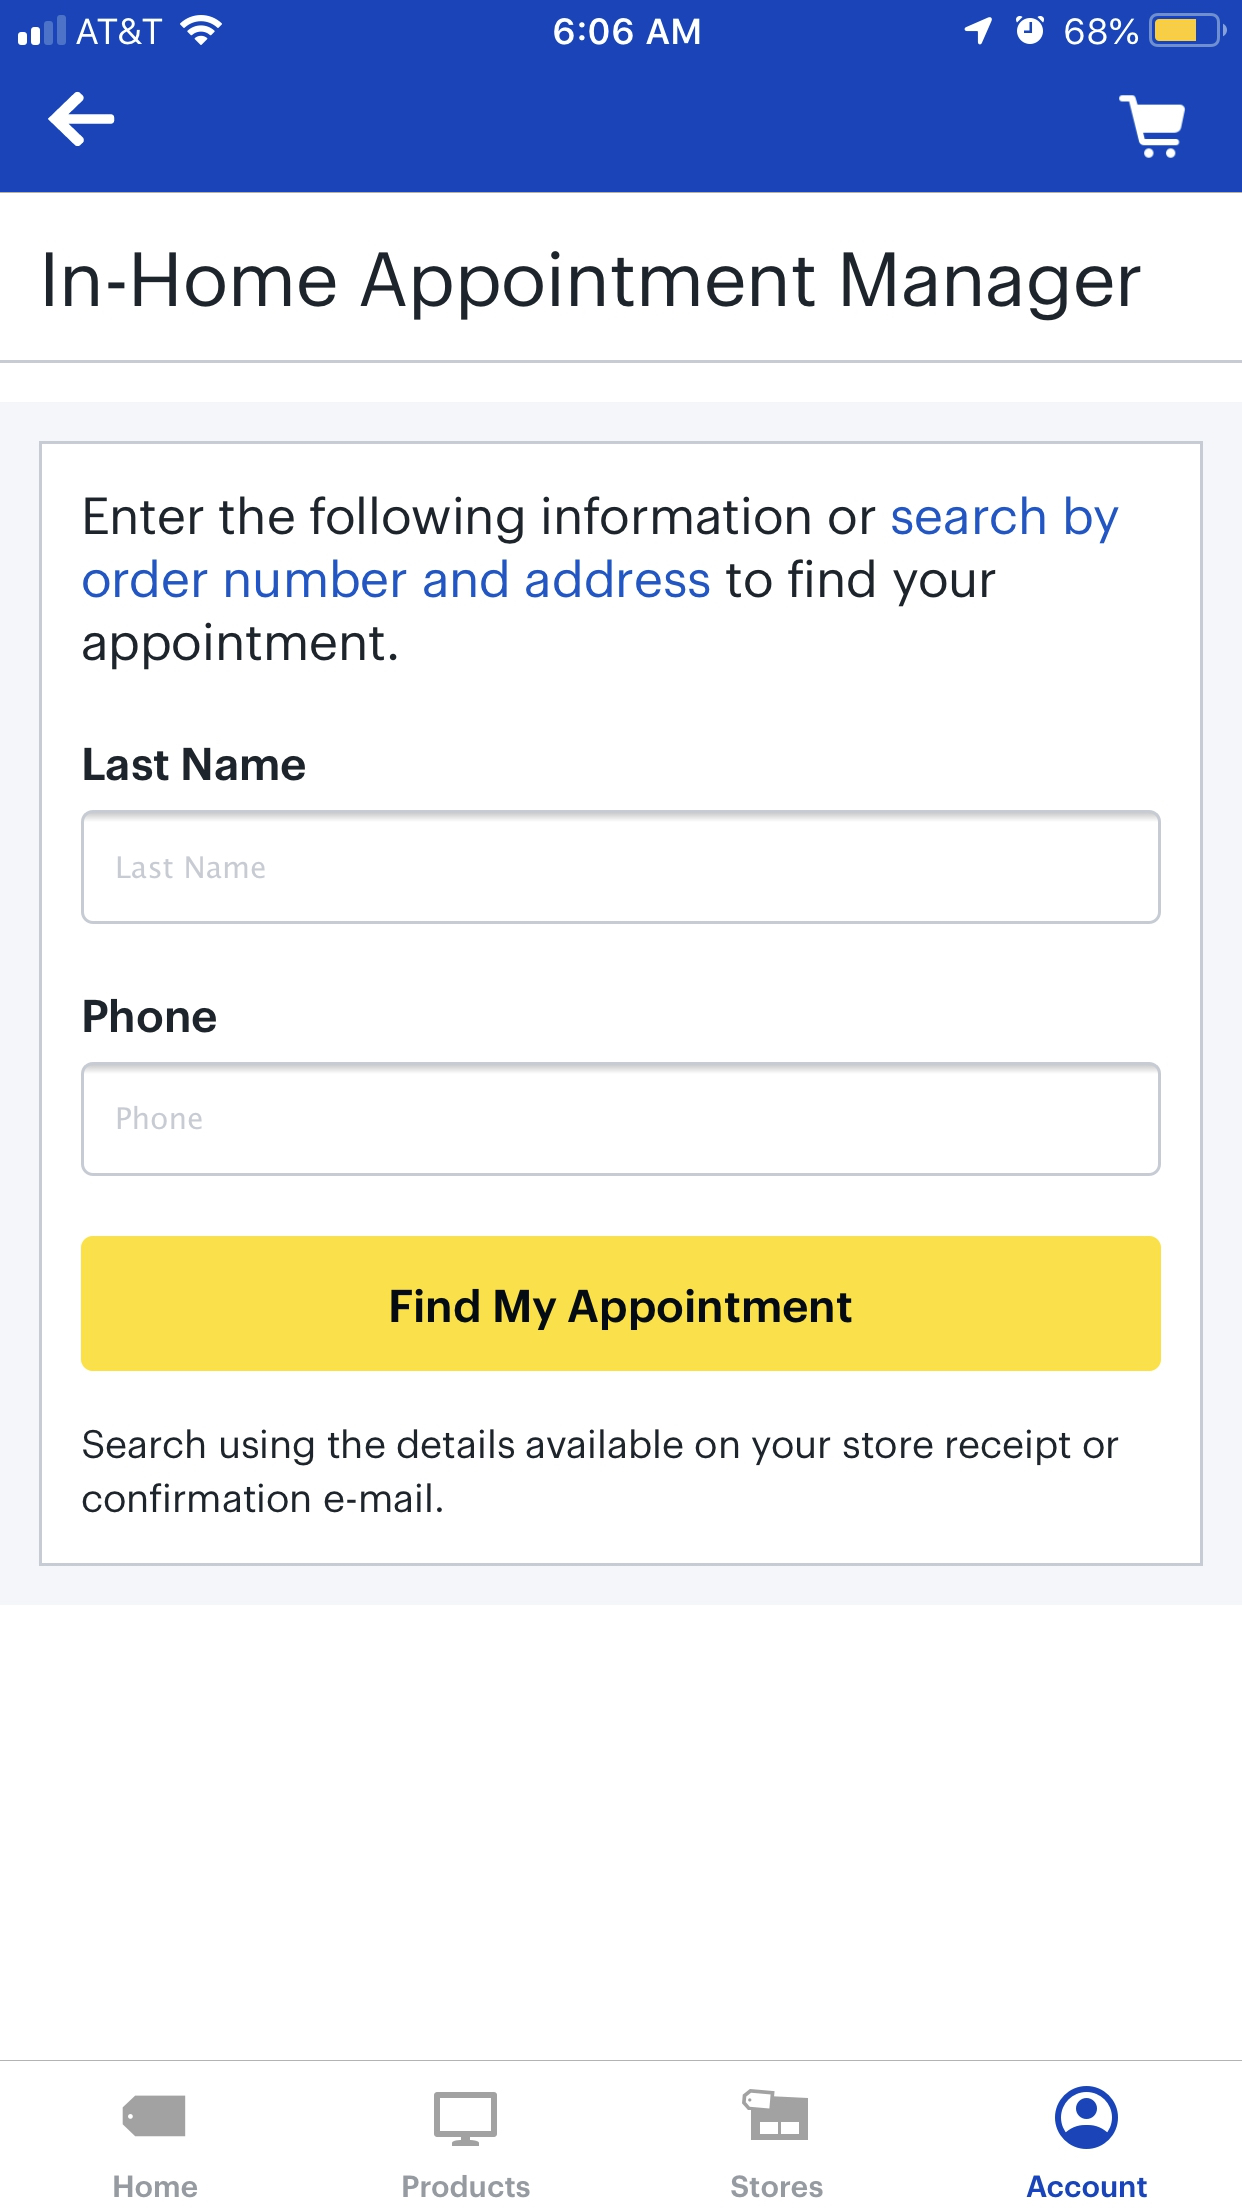EditText: (80, 810, 1162, 925), (82, 1062, 1162, 1177)
Icon: (1118, 96, 1186, 161), (1055, 2087, 1119, 2150), (49, 93, 115, 149), (123, 2094, 187, 2137)
Image: (434, 2093, 497, 2147), (742, 2090, 808, 2141)
Text: (83, 496, 1121, 670), (83, 1429, 1119, 1513), (47, 252, 1142, 323), (85, 748, 306, 783), (85, 999, 218, 1034), (118, 855, 267, 880), (403, 2175, 531, 2197), (1027, 2175, 1148, 2197), (117, 1106, 202, 1131), (731, 2175, 823, 2197), (115, 2175, 199, 2197)
TextButton: (82, 1236, 1162, 1372)
UpperTaskBar: (2, 2, 1242, 49)
